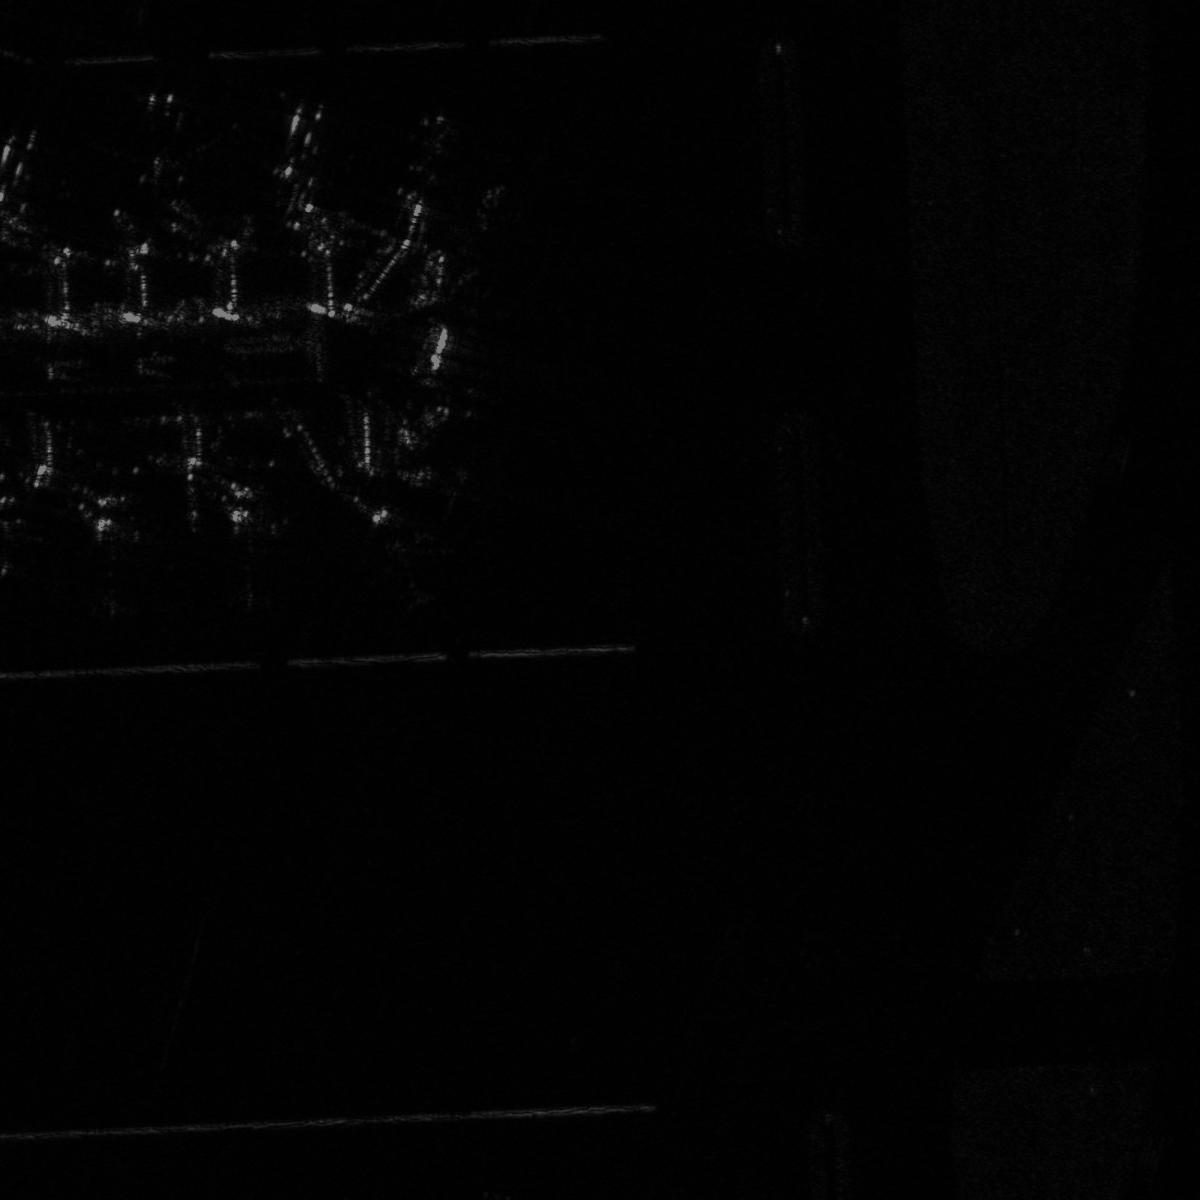A220: (381, 103, 484, 209), (1, 513, 51, 595), (474, 184, 529, 230)
A320/321: (240, 98, 367, 195)
Boeing737: (349, 496, 466, 616)
Boeing787: (59, 515, 176, 619)
other: (84, 81, 238, 189), (197, 500, 297, 609)
